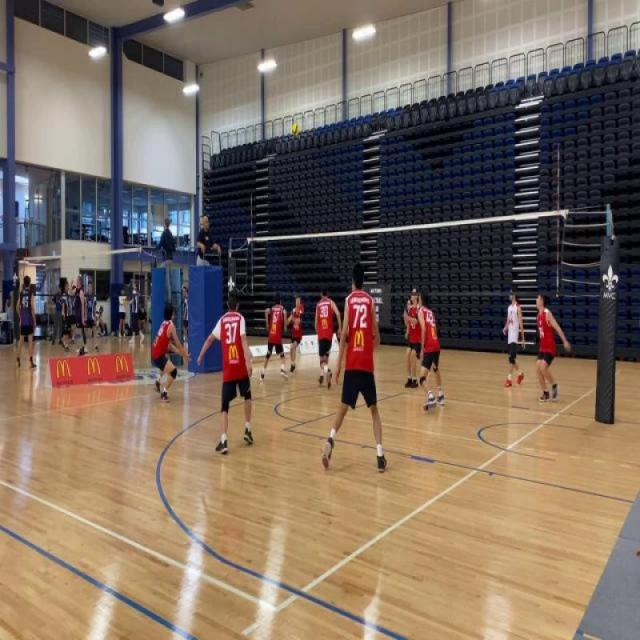volleyball: (290, 121, 301, 138)
